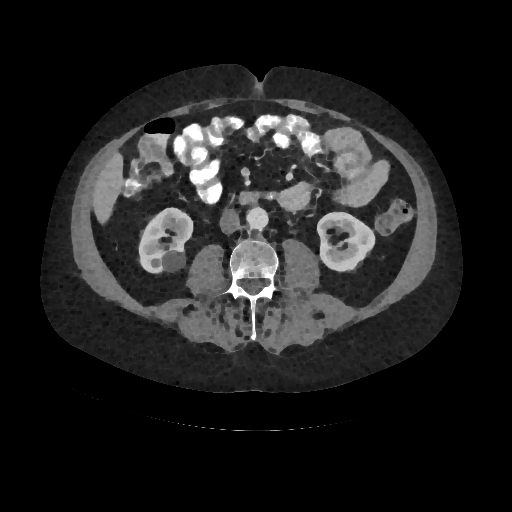Lesion: (160, 250, 187, 275)
